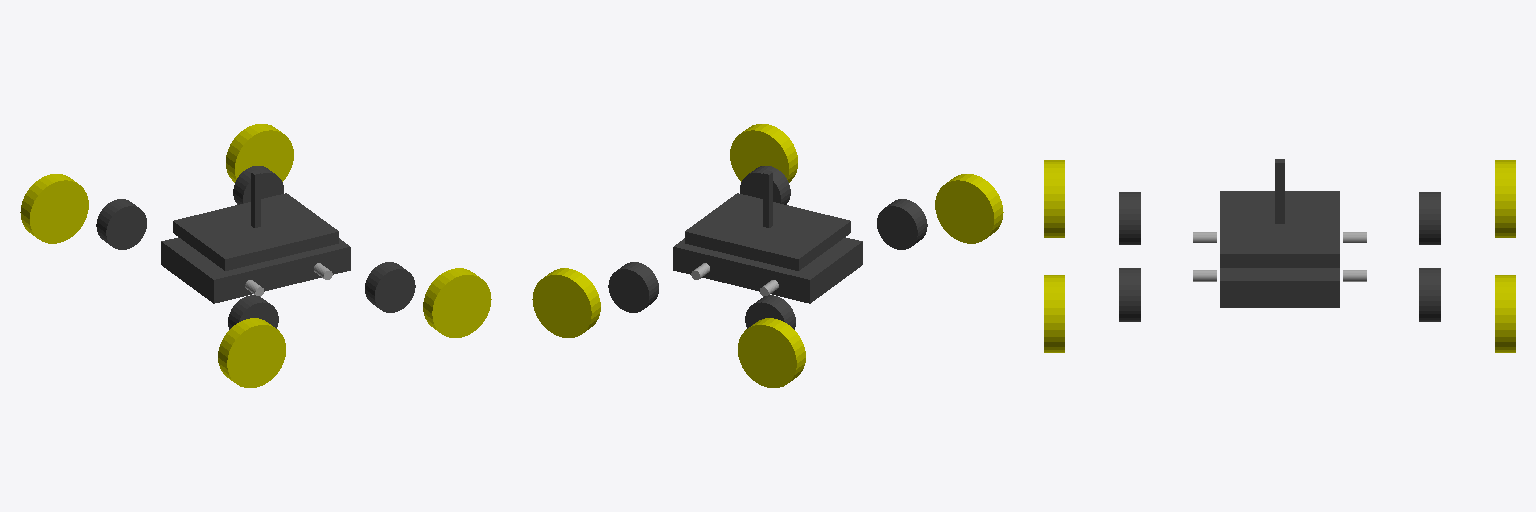
URDF robot description (mockturtlebot):
<?xml version="1.0" ?>
<!-- =================================================================================== -->
<!-- |    This document was autogenerated by xacro from mockturtlebot.urdf.xacro       | -->
<!-- |    EDITING THIS FILE BY HAND IS NOT RECOMMENDED                                 | -->
<!-- =================================================================================== -->
<robot name="mockturtlebot" xmlns:xacro="http://ros.org/wiki/xacro">
  <material name="Black">
    <color rgba="0.0 0.0 0.0 1.0"/>
  </material>
  <material name="Blue">
    <color rgba="0.0 0.0 0.8 1.0"/>
  </material>
  <material name="Green">
    <color rgba="0.0 0.8 0.0 1.0"/>
  </material>
  <material name="Gray">
    <color rgba="0.7 0.7 0.7 1.0"/>
  </material>
  <material name="DarkGray">
    <color rgba="0.3 0.3 0.3 1.0"/>
  </material>
  <material name="Red">
    <color rgba="0.8 0.0 0.0 1.0"/>
  </material>
  <material name="White">
    <color rgba="1.0 1.0 1.0 1.0"/>
  </material>
  <material name="Yellow">
    <color rgba="0.8 0.8 0.0 1.0"/>
  </material>
  <!-- Last modified by Chrimo at 2017-03-08 15:00 -->
  <!-- in kg-->
  <link name="top_link">
    <visual>
      <origin rpy="0 0 0" xyz="0 0 .1"/>
      <geometry>
        <box size=".5 .4 .05"/>
      </geometry>
      <material name="DarkGray"/>
    </visual>
  </link>
  <joint name="top_joint" type="fixed">
    <parent link="base_link"/>
    <child link="top_link"/>
    <origin rpy="0 0 0" xyz="0 0 0"/>
    <axis rpy="0 0 0" xyz="0 0 0"/>
    <limit effort="100" velocity="100"/>
    <joint_properties damping="0.0" friction="0.0"/>
  </joint>
  <link name="tower_link">
    <visual>
      <origin rpy="0 0 0" xyz="0 0 .2"/>
      <geometry>
        <box size="0.03 0.03 0.3"/>
      </geometry>
      <material name="DarkGray"/>
    </visual>
  </link>
  <joint name="tower_joint" type="fixed">
    <parent link="base_link"/>
    <child link="tower_link"/>
    <origin rpy="0 0 0" xyz="0 0 0"/>
    <axis rpy="0 0 0" xyz="0 0 0"/>
    <limit effort="100" velocity="100"/>
    <joint_properties damping="0.0" friction="0.0"/>
  </joint>
  <!-- 
    These properties must be observed by any machine
    that wants to be defined as a turtlebot. Refer
    to the REP for more details.
    
    http://www.ros.org/reps/rep-0119.html
   -->
  <!-- Parametring the positions -->
  <!--
  <xacro:property name="r200_cam_px" value="0.12" />
  <xacro:property name="r200_cam_pz" value="0.1268" />
  <xacro:property name="r200_cam_py" value="0.082"/>
  -->
  <!-- Also parameterised in part by the values in turtlebot_properties.urdf.xacro -->
  <!--
  Seems like this weird organization is required for move_base to work properly...
  parent > camera_rgb_frame
  -->
  <!-- in kg-->
  <!-- BASE-FOOTPRINT -->
  <!-- base_footprint is a fictitious link(frame) that is on the ground right below base_link origin -->
  <link name="base_footprint">
    <visual>
      <origin rpy="0 0 0" xyz="0 0 0"/>
      <geometry>
        <box size="0.001 0.001 0.001"/>
      </geometry>
    </visual>
  </link>
  <joint name="base_footprint_joint" type="fixed">
    <origin rpy="0 0 0" xyz="0 0 0.13"/>
    <parent link="base_footprint"/>
    <child link="base_link"/>
  </joint>
  <!-- BASE-LINK -->
  <!--Actual body/chassis of the robot-->
  <link name="base_link">
    <visual>
      <origin rpy="0 0 0" xyz="0 0 0"/>
      <geometry>
        <box size="0.6 0.4 0.1"/>
      </geometry>
      <material name="DarkGray"/>
    </visual>
  </link>
  <!--fb : front, back ; lr: left, right -->
  <!-- steel axle -->
  <link name="front_right_axle">
    <visual>
      <origin rpy="-1.57079632679 0 0" xyz="0 0 0"/>
      <geometry>
        <cylinder length="0.077" radius="0.02"/>
      </geometry>
      <material name="Gray"/>
    </visual>
  </link>
  <joint name="front_right_axle_joint" type="continuous">
    <parent link="base_link"/>
    <child link="front_right_axle"/>
    <origin rpy="0 0 0" xyz="0.15 -0.25 0.0"/>
    <axis rpy="0 0 0" xyz="0 1 0"/>
    <limit effort="100" velocity="100"/>
    <joint_properties damping="0.0" friction="0.0"/>
  </joint>
  <!-- steel rim -->
  <link name="front_right_rim">
    <visual>
      <origin rpy="-1.57079632679 0 0" xyz="0 0 0"/>
      <geometry>
        <cylinder length="0.075" radius="0.09"/>
      </geometry>
      <material name="DarkGray"/>
    </visual>
  </link>
  <joint name="front_right_rim_joint" type="fixed">
    <!-- parent link="${parent}"/-->
    <parent link="front_right_axle"/>
    <child link="front_right_rim"/>
    <origin rpy="0 0 0" xyz="0.15 -0.25 0.0"/>
    <axis rpy="0 0 0" xyz="0 1 0"/>
    <limit effort="100" velocity="100"/>
    <joint_properties damping="0.0" friction="0.0"/>
  </joint>
  <!-- rubber wheel -->
  <link name="front_right_wheel">
    <visual>
      <origin rpy="-1.57079632679 0 0" xyz="0 0 0"/>
      <geometry>
        <cylinder length="0.07" radius="0.13"/>
      </geometry>
      <material name="Yellow"/>
    </visual>
  </link>
  <joint name="front_right_wheel_joint" type="fixed">
    <!-- parent link="${parent}"/-->
    <parent link="front_right_rim"/>
    <child link="front_right_wheel"/>
    <origin rpy="0 0 0" xyz="0.15 -0.25 0.0"/>
    <axis rpy="0 0 0" xyz="0 1 0"/>
    <limit effort="100" velocity="100"/>
    <joint_properties damping="0.0" friction="0.0"/>
  </joint>
  <!--fb : front, back ; lr: left, right -->
  <!-- steel axle -->
  <link name="front_left_axle">
    <visual>
      <origin rpy="-1.57079632679 0 0" xyz="0 0 0"/>
      <geometry>
        <cylinder length="0.077" radius="0.02"/>
      </geometry>
      <material name="Gray"/>
    </visual>
  </link>
  <joint name="front_left_axle_joint" type="continuous">
    <parent link="base_link"/>
    <child link="front_left_axle"/>
    <origin rpy="0 0 0" xyz="0.15 0.25 0.0"/>
    <axis rpy="0 0 0" xyz="0 1 0"/>
    <limit effort="100" velocity="100"/>
    <joint_properties damping="0.0" friction="0.0"/>
  </joint>
  <!-- steel rim -->
  <link name="front_left_rim">
    <visual>
      <origin rpy="-1.57079632679 0 0" xyz="0 0 0"/>
      <geometry>
        <cylinder length="0.075" radius="0.09"/>
      </geometry>
      <material name="DarkGray"/>
    </visual>
  </link>
  <joint name="front_left_rim_joint" type="fixed">
    <!-- parent link="${parent}"/-->
    <parent link="front_left_axle"/>
    <child link="front_left_rim"/>
    <origin rpy="0 0 0" xyz="0.15 0.25 0.0"/>
    <axis rpy="0 0 0" xyz="0 1 0"/>
    <limit effort="100" velocity="100"/>
    <joint_properties damping="0.0" friction="0.0"/>
  </joint>
  <!-- rubber wheel -->
  <link name="front_left_wheel">
    <visual>
      <origin rpy="-1.57079632679 0 0" xyz="0 0 0"/>
      <geometry>
        <cylinder length="0.07" radius="0.13"/>
      </geometry>
      <material name="Yellow"/>
    </visual>
  </link>
  <joint name="front_left_wheel_joint" type="fixed">
    <!-- parent link="${parent}"/-->
    <parent link="front_left_rim"/>
    <child link="front_left_wheel"/>
    <origin rpy="0 0 0" xyz="0.15 0.25 0.0"/>
    <axis rpy="0 0 0" xyz="0 1 0"/>
    <limit effort="100" velocity="100"/>
    <joint_properties damping="0.0" friction="0.0"/>
  </joint>
  <!--fb : front, back ; lr: left, right -->
  <!-- steel axle -->
  <link name="back_right_axle">
    <visual>
      <origin rpy="-1.57079632679 0 0" xyz="0 0 0"/>
      <geometry>
        <cylinder length="0.077" radius="0.02"/>
      </geometry>
      <material name="Gray"/>
    </visual>
  </link>
  <joint name="back_right_axle_joint" type="continuous">
    <parent link="base_link"/>
    <child link="back_right_axle"/>
    <origin rpy="0 0 0" xyz="-0.15 -0.25 0.0"/>
    <axis rpy="0 0 0" xyz="0 1 0"/>
    <limit effort="100" velocity="100"/>
    <joint_properties damping="0.0" friction="0.0"/>
  </joint>
  <!-- steel rim -->
  <link name="back_right_rim">
    <visual>
      <origin rpy="-1.57079632679 0 0" xyz="0 0 0"/>
      <geometry>
        <cylinder length="0.075" radius="0.09"/>
      </geometry>
      <material name="DarkGray"/>
    </visual>
  </link>
  <joint name="back_right_rim_joint" type="fixed">
    <!-- parent link="${parent}"/-->
    <parent link="back_right_axle"/>
    <child link="back_right_rim"/>
    <origin rpy="0 0 0" xyz="-0.15 -0.25 0.0"/>
    <axis rpy="0 0 0" xyz="0 1 0"/>
    <limit effort="100" velocity="100"/>
    <joint_properties damping="0.0" friction="0.0"/>
  </joint>
  <!-- rubber wheel -->
  <link name="back_right_wheel">
    <visual>
      <origin rpy="-1.57079632679 0 0" xyz="0 0 0"/>
      <geometry>
        <cylinder length="0.07" radius="0.13"/>
      </geometry>
      <material name="Yellow"/>
    </visual>
  </link>
  <joint name="back_right_wheel_joint" type="fixed">
    <!-- parent link="${parent}"/-->
    <parent link="back_right_rim"/>
    <child link="back_right_wheel"/>
    <origin rpy="0 0 0" xyz="-0.15 -0.25 0.0"/>
    <axis rpy="0 0 0" xyz="0 1 0"/>
    <limit effort="100" velocity="100"/>
    <joint_properties damping="0.0" friction="0.0"/>
  </joint>
  <!--fb : front, back ; lr: left, right -->
  <!-- steel axle -->
  <link name="back_left_axle">
    <visual>
      <origin rpy="-1.57079632679 0 0" xyz="0 0 0"/>
      <geometry>
        <cylinder length="0.077" radius="0.02"/>
      </geometry>
      <material name="Gray"/>
    </visual>
  </link>
  <joint name="back_left_axle_joint" type="continuous">
    <parent link="base_link"/>
    <child link="back_left_axle"/>
    <origin rpy="0 0 0" xyz="-0.15 0.25 0.0"/>
    <axis rpy="0 0 0" xyz="0 1 0"/>
    <limit effort="100" velocity="100"/>
    <joint_properties damping="0.0" friction="0.0"/>
  </joint>
  <!-- steel rim -->
  <link name="back_left_rim">
    <visual>
      <origin rpy="-1.57079632679 0 0" xyz="0 0 0"/>
      <geometry>
        <cylinder length="0.075" radius="0.09"/>
      </geometry>
      <material name="DarkGray"/>
    </visual>
  </link>
  <joint name="back_left_rim_joint" type="fixed">
    <!-- parent link="${parent}"/-->
    <parent link="back_left_axle"/>
    <child link="back_left_rim"/>
    <origin rpy="0 0 0" xyz="-0.15 0.25 0.0"/>
    <axis rpy="0 0 0" xyz="0 1 0"/>
    <limit effort="100" velocity="100"/>
    <joint_properties damping="0.0" friction="0.0"/>
  </joint>
  <!-- rubber wheel -->
  <link name="back_left_wheel">
    <visual>
      <origin rpy="-1.57079632679 0 0" xyz="0 0 0"/>
      <geometry>
        <cylinder length="0.07" radius="0.13"/>
      </geometry>
      <material name="Yellow"/>
    </visual>
  </link>
  <joint name="back_left_wheel_joint" type="fixed">
    <!-- parent link="${parent}"/-->
    <parent link="back_left_rim"/>
    <child link="back_left_wheel"/>
    <origin rpy="0 0 0" xyz="-0.15 0.25 0.0"/>
    <axis rpy="0 0 0" xyz="0 1 0"/>
    <limit effort="100" velocity="100"/>
    <joint_properties damping="0.0" friction="0.0"/>
  </joint>
  <!--
    ==  RGB joints & links ==
    -->
  <joint name="camera_rgb_joint" type="fixed">
    <origin rpy="0 0 0" xyz="1.0088 0.8966 1.0483"/>
    <parent link="base_link"/>
    <child link="camera_rgb_frame"/>
  </joint>
  <link name="camera_rgb_frame"/>
  <joint name="camera_rgb_optical_joint" type="fixed">
    <origin rpy="-1.57079632679 0 -1.57079632679" xyz="0 0 0"/>
    <parent link="camera_rgb_frame"/>
    <child link="camera_rgb_optical_frame"/>
  </joint>
  <link name="camera_rgb_optical_frame"/>
  <!-- Placing the camera joint -->
  <joint name="camera_joint" type="fixed">
    <origin rpy="0 0 0" xyz="1 1 1"/>
    <parent link="camera_rgb_frame"/>
    <child link="camera_link"/>
  </joint>
  <!-- Mounting the camera at the right position -->
  <link name="camera_link">
    <visual>
      <origin rpy="1.57079632679 0 1.57079632679" xyz="-1.0088 -0.8966 -1.0483"/>
      <geometry>
        <mesh filename="package://realsense_navigation/robot_description/meshes/sensors/r200_entire.dae"/>
      </geometry>
    </visual>
    <collision>
      <origin rpy="0 0 0" xyz="0.0 0.0 0.0"/>
      <geometry>
        <box size="0.130 0.567 0.118"/>
      </geometry>
    </collision>
    <!-- This inertial field needs doesn't contain reliable data!! -->
    <inertial>
      <mass value="0.564"/>
      <origin xyz="0 0 0"/>
      <inertia ixx="0.003881243" ixy="0.0" ixz="0.0" iyy="0.000498940" iyz="0.0" izz="0.003879257"/>
    </inertial>
  </link>
  <!--
    ==  Depth joints & links ==
    -->
  <joint name="camera_depth_joint" type="fixed">
    <origin rpy="0 0 0" xyz="0 0.0274 0"/>
    <parent link="camera_rgb_frame"/>
    <child link="camera_depth_frame"/>
  </joint>
  <link name="camera_depth_frame"/>
  <joint name="camera_depth_optical_joint" type="fixed">
    <origin rpy="-1.57079632679 0 -1.57079632679" xyz="0 0 0"/>
    <parent link="camera_depth_frame"/>
    <child link="camera_depth_optical_frame"/>
  </joint>
  <link name="camera_depth_optical_frame"/>
  <gazebo reference="camera_link">
    <sensor name="camera" type="depth">
      <always_on>true</always_on>
      <update_rate>20.0</update_rate>
      <camera>
        <horizontal_fov>1.0471975512</horizontal_fov>
        <image>
          <format>B8G8R8</format>
          <width>640</width>
          <height>480</height>
        </image>
        <clip>
          <near>0.05</near>
          <far>8.0</far>
        </clip>
      </camera>
      <plugin filename="libgazebo_ros_openni_kinect.so" name="kinect_camera_controller">
        <cameraName>camera</cameraName>
        <alwaysOn>true</alwaysOn>
        <updateRate>10</updateRate>
        <imageTopicName>rgb/image_raw</imageTopicName>
        <depthImageTopicName>depth/image_raw</depthImageTopicName>
        <pointCloudTopicName>depth/points</pointCloudTopicName>
        <cameraInfoTopicName>rgb/camera_info</cameraInfoTopicName>
        <depthImageCameraInfoTopicName>depth/camera_info</depthImageCameraInfoTopicName>
        <frameName>camera_depth_optical_frame</frameName>
        <baseline>0.1</baseline>
        <distortion_k1>0.0</distortion_k1>
        <distortion_k2>0.0</distortion_k2>
        <distortion_k3>0.0</distortion_k3>
        <distortion_t1>0.0</distortion_t1>
        <distortion_t2>0.0</distortion_t2>
        <pointCloudCutoff>0.4</pointCloudCutoff>
      </plugin>
    </sensor>
  </gazebo>
  <!-- 
  <addonbox xbox="0.1" ybox="0.1" zbox="0.1" parent="base_link"/>
  <sensor_r200 parent="base_link"/>
-->
</robot>

--- Render facts (derived) ---
3 views of the same robot in one strip: view 1: azimuth 30°, elevation 25°; view 2: azimuth 150°, elevation 25°; view 3: azimuth 270°, elevation 25° (orthographic).
Model mockturtlebot with 21 links and 20 joints (4 continuous, 16 fixed), rooted at base_footprint, posed all joints at 0.
Links seen in each view (by area): view 1: top_link, base_link, front_right_wheel, back_left_wheel, back_right_wheel, front_left_wheel, front_right_rim, back_left_rim, front_left_rim, back_right_rim, tower_link; view 2: top_link, base_link, front_left_wheel, back_right_wheel, back_left_wheel, front_right_wheel, front_left_rim, back_right_rim, front_right_rim, back_left_rim, tower_link; view 3: top_link, base_link, front_right_wheel, front_left_wheel, back_right_wheel, back_left_wheel, front_right_rim, front_left_rim, back_right_rim, back_left_rim, tower_link.
Boxes of the visible links, bbox=[...] form: top_link: bbox=[173, 193, 338, 270]; base_link: bbox=[161, 237, 350, 303]; front_right_wheel: bbox=[423, 268, 491, 337]; back_left_wheel: bbox=[20, 174, 88, 243]; back_right_wheel: bbox=[218, 318, 285, 387]; front_left_wheel: bbox=[226, 124, 293, 182]; front_right_rim: bbox=[365, 262, 415, 312]; back_left_rim: bbox=[96, 199, 146, 249]; front_left_rim: bbox=[233, 166, 283, 204]; back_right_rim: bbox=[228, 295, 278, 329]; tower_link: bbox=[251, 170, 260, 227]; top_link: bbox=[685, 193, 850, 270]; base_link: bbox=[673, 237, 862, 303]; front_left_wheel: bbox=[532, 268, 600, 337]; back_right_wheel: bbox=[935, 174, 1003, 243]; back_left_wheel: bbox=[738, 318, 805, 387]; front_right_wheel: bbox=[730, 124, 797, 182]; front_left_rim: bbox=[608, 262, 658, 312]; back_right_rim: bbox=[877, 199, 927, 249]; front_right_rim: bbox=[740, 166, 790, 204]; back_left_rim: bbox=[745, 295, 795, 329]; tower_link: bbox=[763, 170, 772, 227]; top_link: bbox=[1220, 191, 1339, 267]; base_link: bbox=[1220, 268, 1339, 307]; front_right_wheel: bbox=[1044, 275, 1064, 352]; front_left_wheel: bbox=[1495, 275, 1515, 352]; back_right_wheel: bbox=[1044, 160, 1064, 237]; back_left_wheel: bbox=[1495, 160, 1515, 237]; front_right_rim: bbox=[1119, 268, 1140, 321]; front_left_rim: bbox=[1419, 268, 1440, 321]; back_right_rim: bbox=[1119, 192, 1140, 244]; back_left_rim: bbox=[1419, 192, 1440, 244]; tower_link: bbox=[1275, 159, 1284, 223].
Bounding box of the posed robot: 1.16 × 1.57 × 0.4805 m (x, y, z).
Meshes: 1 distinct files referenced, 0 mesh visuals loaded (none loaded); not drawn: 1 (reference not matched to a file when rendering).
